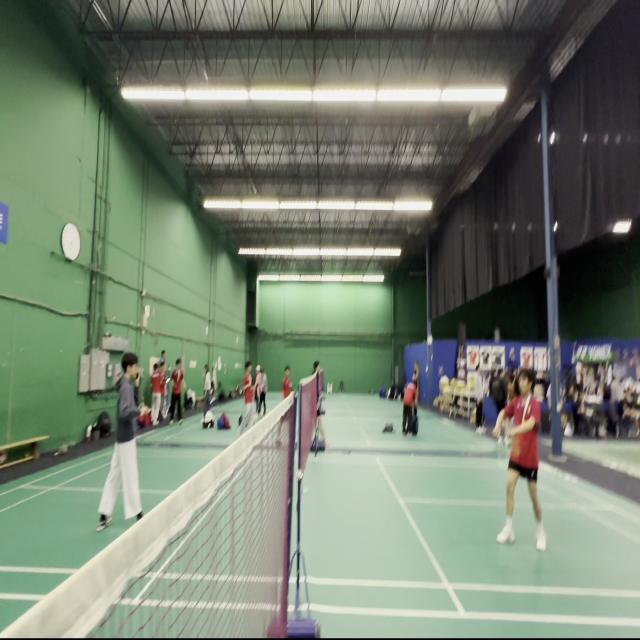shuttlecock: (504, 438, 510, 448)
